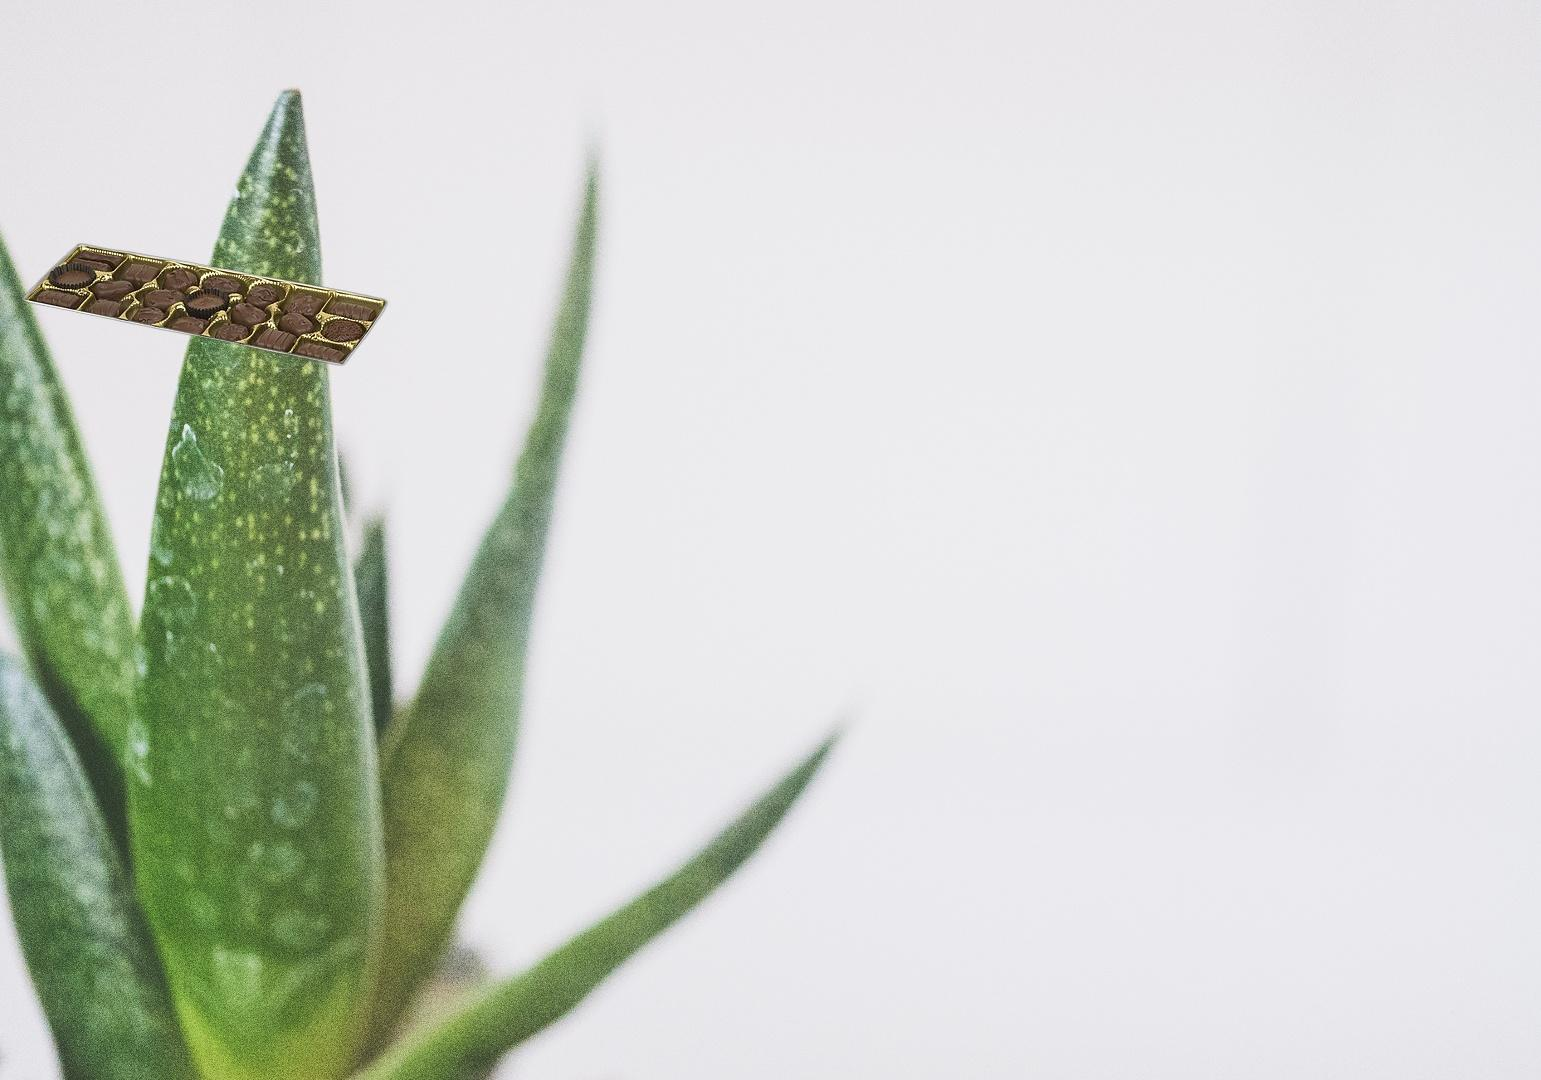trashbox-cardboard: (18, 241, 391, 368)
